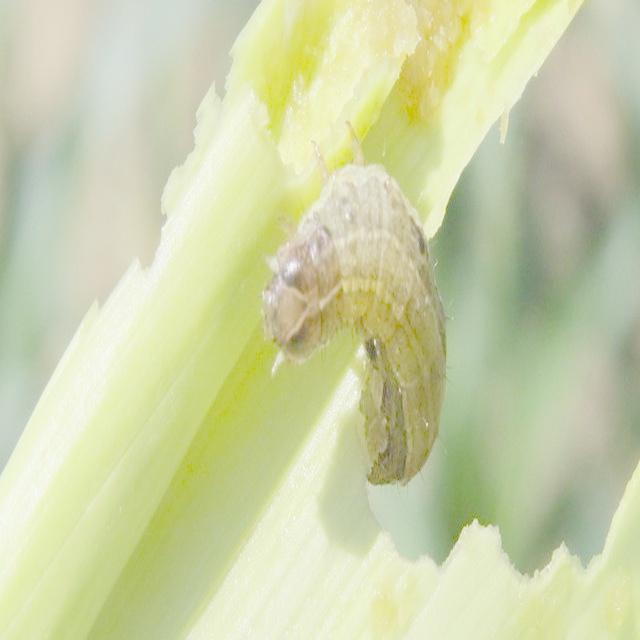Plaga: (269, 166, 451, 484)
